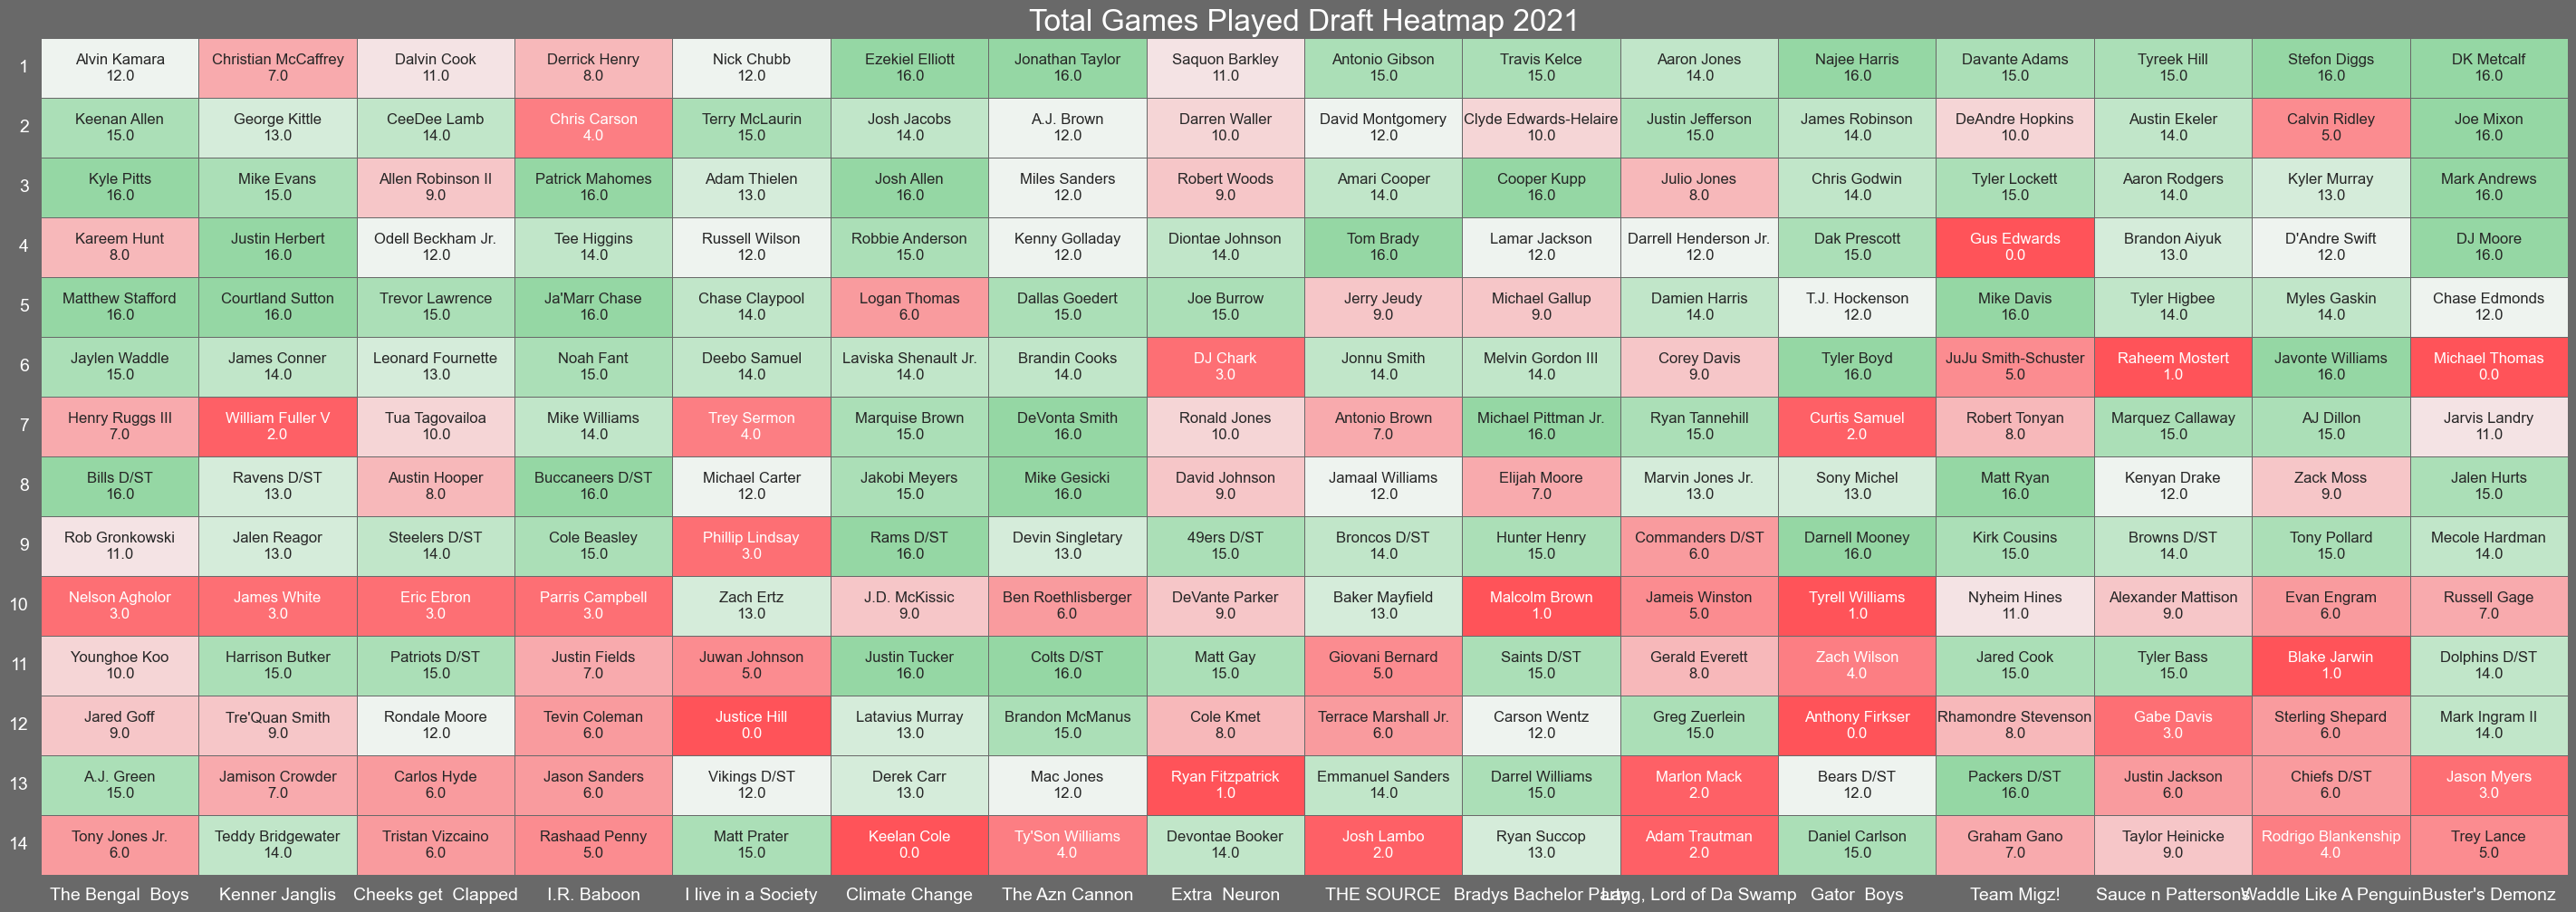

What the dashboard file says about the page in this screenshot:
{"tool":"powerbi","page":{"name":"Page 3","canvas":[1280,720],"ordinal":2},"visuals":[{"type":"pivotTable","fields":{"Rows":["Query1.round","Query1.playername"],"Columns":["Query1.pick"],"Values":["Sum(Query1.total)"]},"box":[0,0,1280,720],"z":1}]}

Visuals, with their boxes on the page's 1280x720 design canvas (x1, y1, x2, y2). These are canvas units, not pixel positions in the 2576x912 screenshot, which may show the page scaled, cropped or inside an application window:
pivotTable - Query1.round x Query1.playername: (0, 0, 1280, 720)
